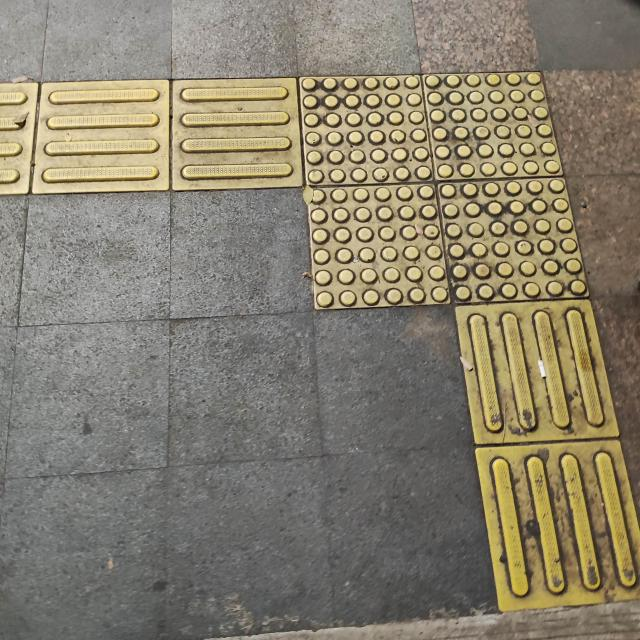kiri: (116, 63, 640, 378)
